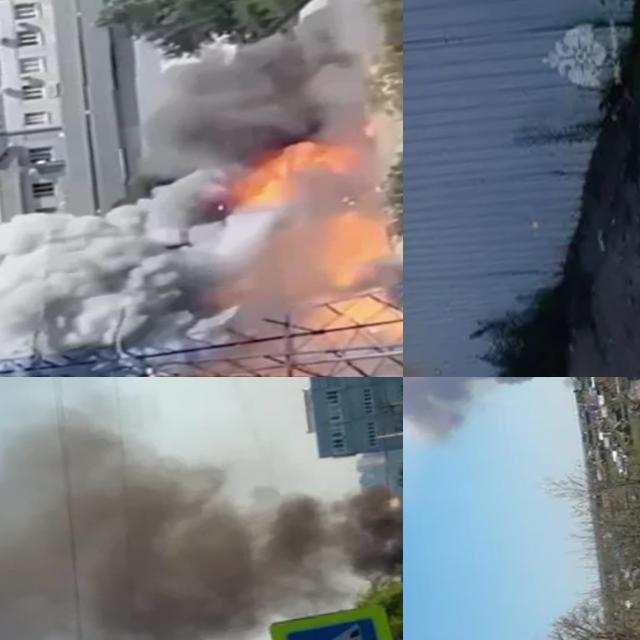smoke: (0, 377, 403, 640), (0, 137, 403, 377), (403, 377, 577, 467)
